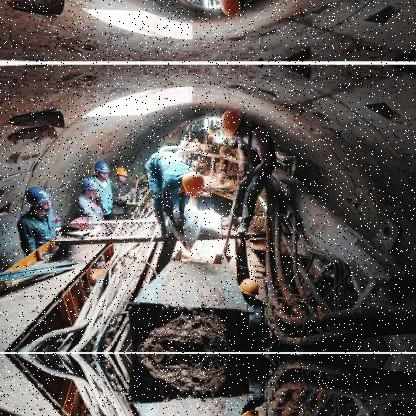Helmet: (214, 100, 250, 147), (22, 182, 60, 218), (175, 164, 210, 202), (212, 0, 248, 23), (76, 172, 102, 196), (90, 161, 116, 184), (110, 158, 132, 182)
